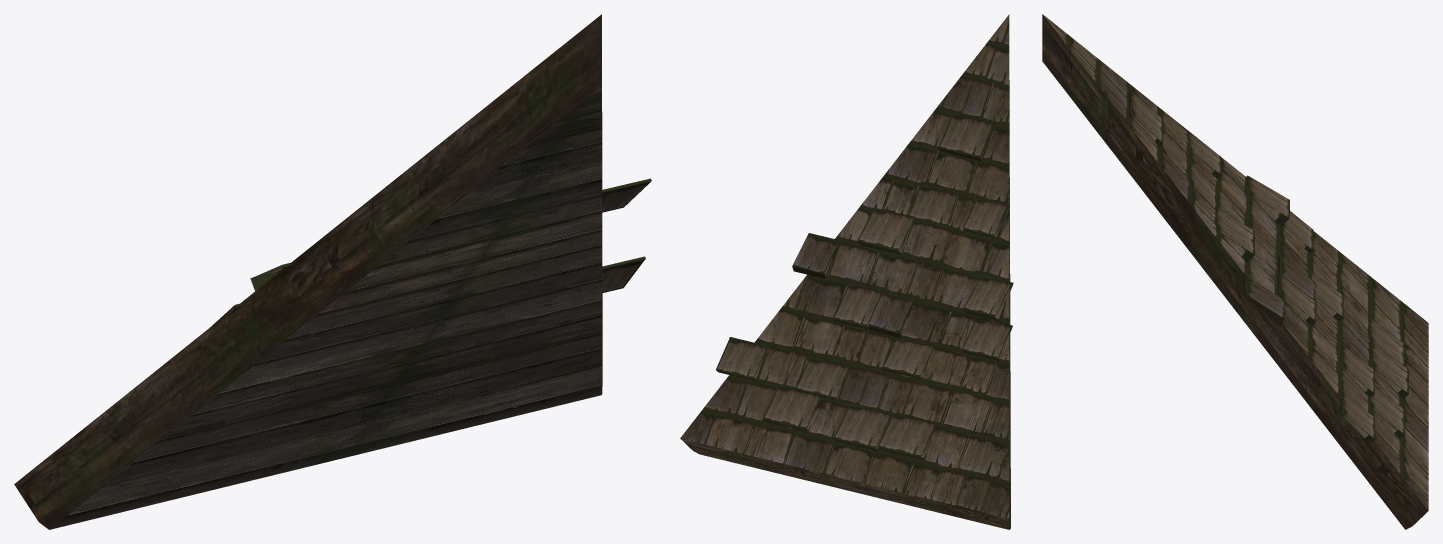
3 views of the same model, side by side, from view 1: azimuth 30°, elevation 25°; view 2: azimuth 150°, elevation 25°; view 3: azimuth 270°, elevation 25° (orthographic). The views are drawn at different scales.
Parts seen in each view (by area): view 1: SM_BB_T1_Roof_Triangle_Large_Inverted_LOD0; view 2: SM_BB_T1_Roof_Triangle_Large_Inverted_LOD0; view 3: SM_BB_T1_Roof_Triangle_Large_Inverted_LOD0.
Part boxes in pixels (left/top/right/bottom): SM_BB_T1_Roof_Triangle_Large_Inverted_LOD0: left=14, top=14, right=651, bottom=529; SM_BB_T1_Roof_Triangle_Large_Inverted_LOD0: left=680, top=14, right=1013, bottom=529; SM_BB_T1_Roof_Triangle_Large_Inverted_LOD0: left=1042, top=14, right=1428, bottom=529.
Size of the model in its own units: 3.19 by 3.37 by 2.76.
Materials: 3 (3 with a texture image).
